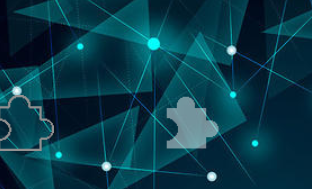target: (159, 95, 221, 151)
